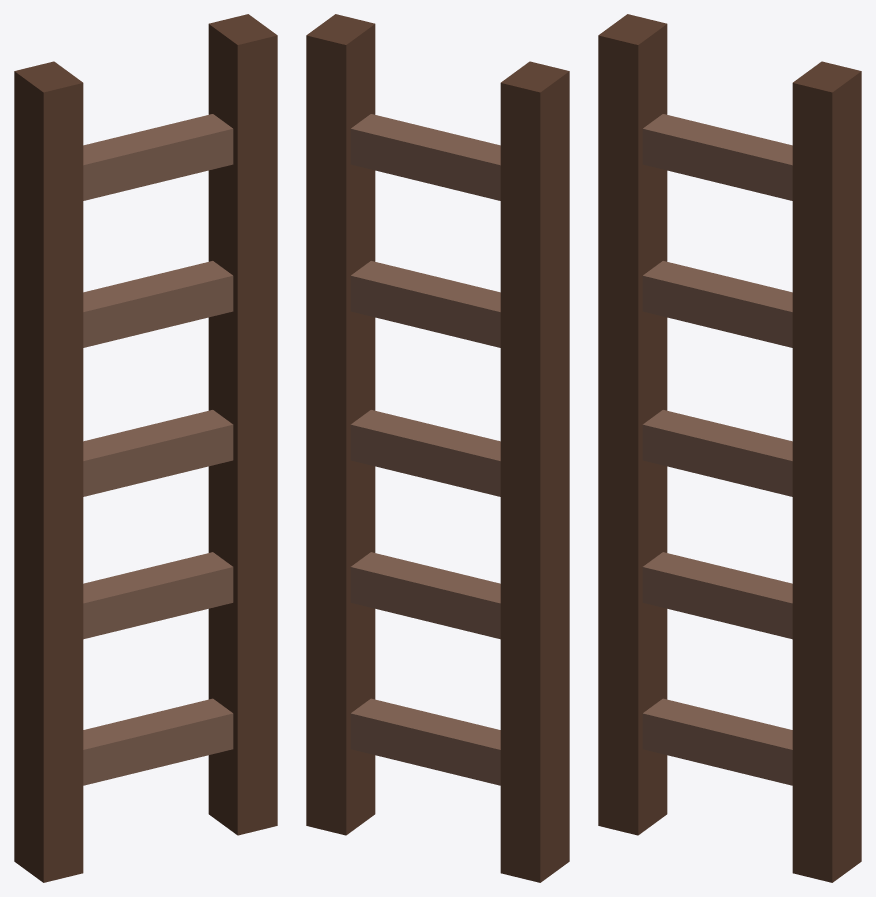
Rendered from Ladder 01.FBX.
3 views of the same model, side by side, from view 1: azimuth 30°, elevation 25°; view 2: azimuth 150°, elevation 25°; view 3: azimuth 330°, elevation 25° (orthographic).
Visible parts, largest first — view 1: Ladder 01; view 2: Ladder 01; view 3: Ladder 01.
Boxes of the visible parts, left/top/right/bottom form: Ladder 01: left=14, top=14, right=277, bottom=882; Ladder 01: left=306, top=14, right=569, bottom=882; Ladder 01: left=598, top=14, right=861, bottom=882.
Bounding box in the file's own units: 75.87 × 245 × 16.43.
